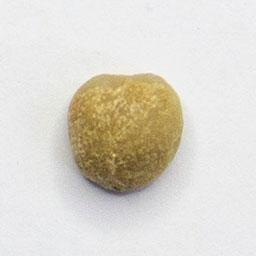defect: (63, 69, 188, 199)
